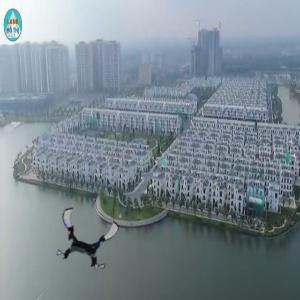drone: (56, 209, 116, 269)
